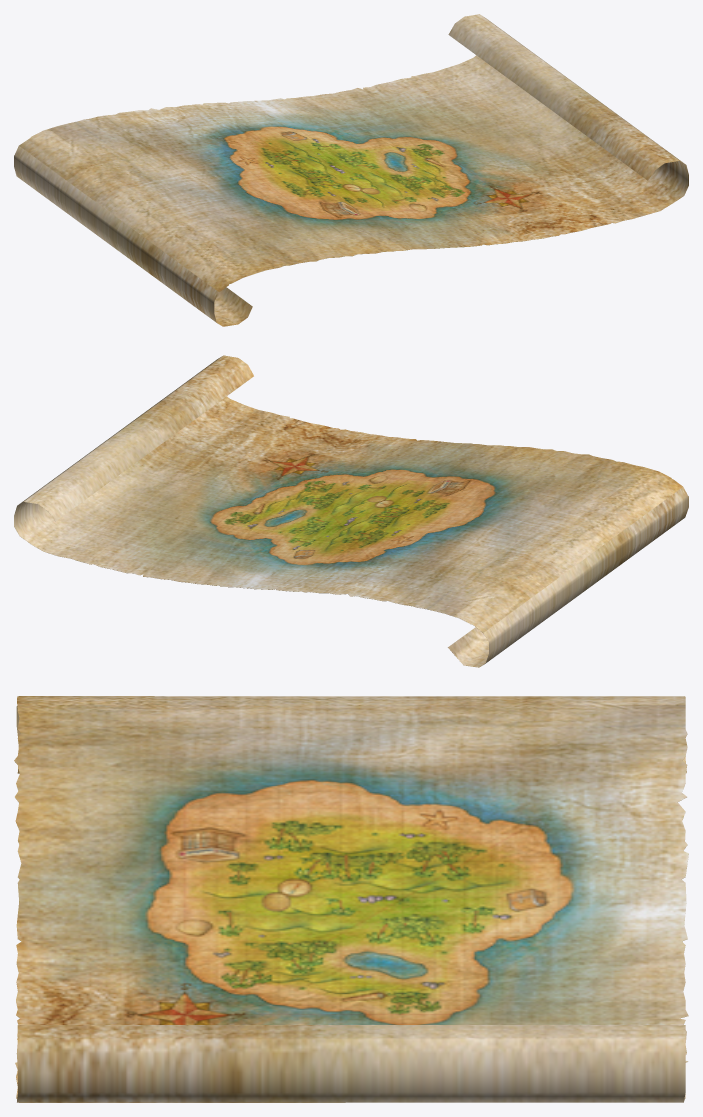
The model's file is Scroll4.fbx.
The picture shows the model from 3 angles, top to bottom: view 1: azimuth 30°, elevation 25°; view 2: azimuth 150°, elevation 25°; view 3: azimuth 270°, elevation 25°; orthographic projection. The views are drawn at different scales.
Parts seen in each view (by area): view 1: Scroll; view 2: Scroll; view 3: Scroll.
Part boxes in pixels (bbox=[...]): Scroll: bbox=[14, 14, 688, 326]; Scroll: bbox=[14, 355, 688, 667]; Scroll: bbox=[14, 696, 688, 1102].
Size of the model in its own units: 1.37 by 0.1573 by 1.01.
1 material, 1 textured.
